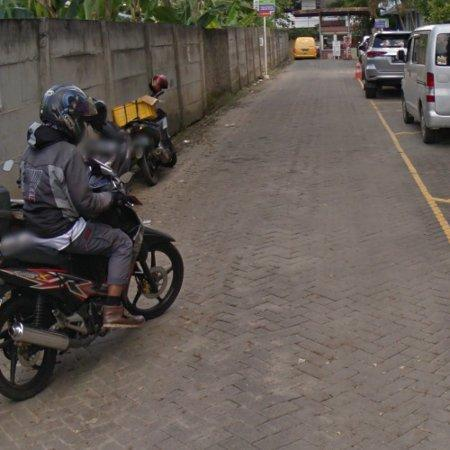motorcycles: (0, 187, 107, 401), (98, 204, 184, 320)
